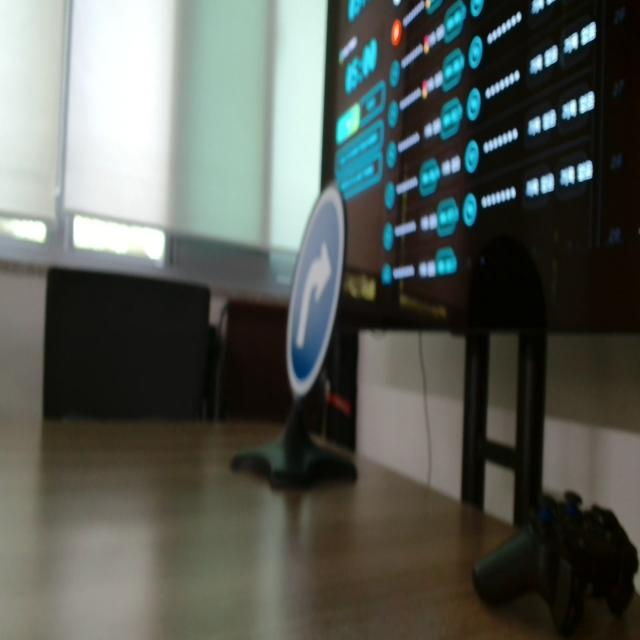right_dierection: (279, 171, 375, 434)
